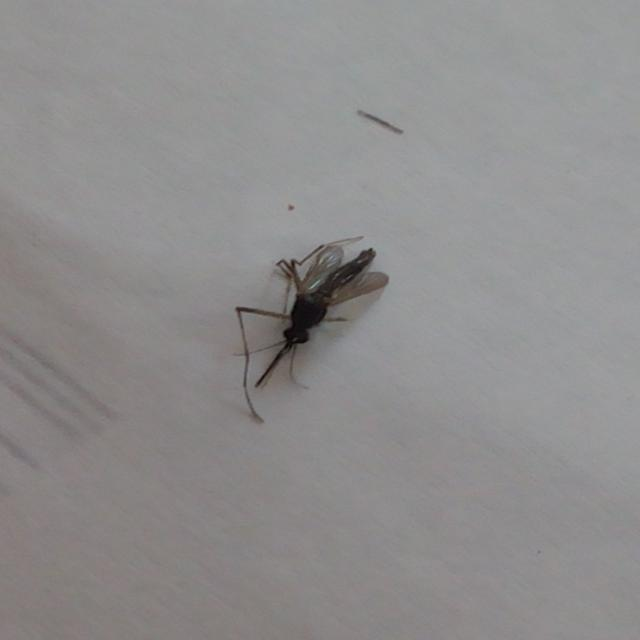albopictus: (220, 228, 392, 411)
